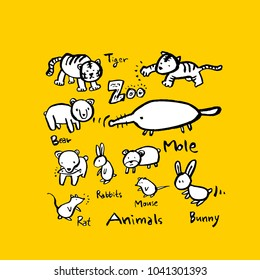animal: (104, 97, 228, 136), (141, 49, 226, 90), (169, 160, 227, 204), (38, 94, 96, 135), (42, 50, 104, 87), (52, 145, 90, 187), (87, 142, 119, 191), (121, 141, 165, 173), (52, 186, 90, 220), (131, 173, 172, 201)
